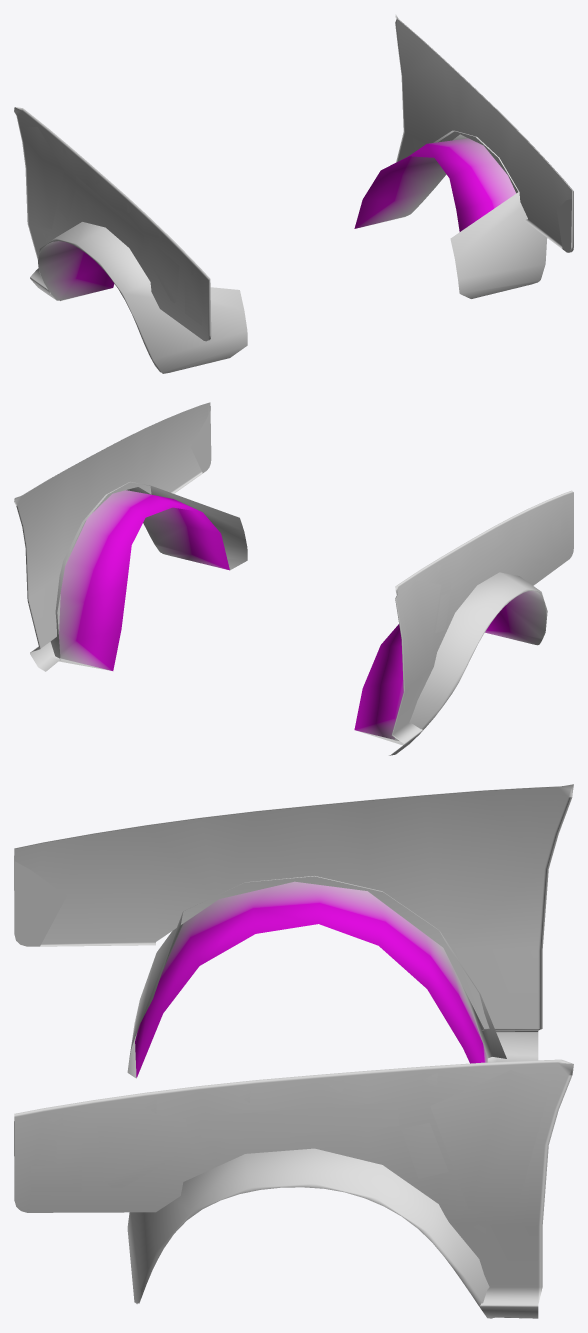
The model's file is Car_Buick_GrandNational_1987_FendersChassisF_SetA.fbx.
The picture shows the model from 3 angles, top to bottom: view 1: azimuth 30°, elevation 25°; view 2: azimuth 150°, elevation 25°; view 3: azimuth 270°, elevation 25°; orthographic projection. The views are drawn at different scales.
Parts seen in each view (by area): view 1: FendersChassisF 6; view 2: FendersChassisF 6; view 3: FendersChassisF 6.
Boxes of the visible parts, bbox=[...] form: FendersChassisF 6: bbox=[14, 14, 573, 373]; FendersChassisF 6: bbox=[14, 402, 573, 755]; FendersChassisF 6: bbox=[14, 784, 573, 1318].
Size of the model in its own units: 1.82 by 0.7218 by 1.36.
